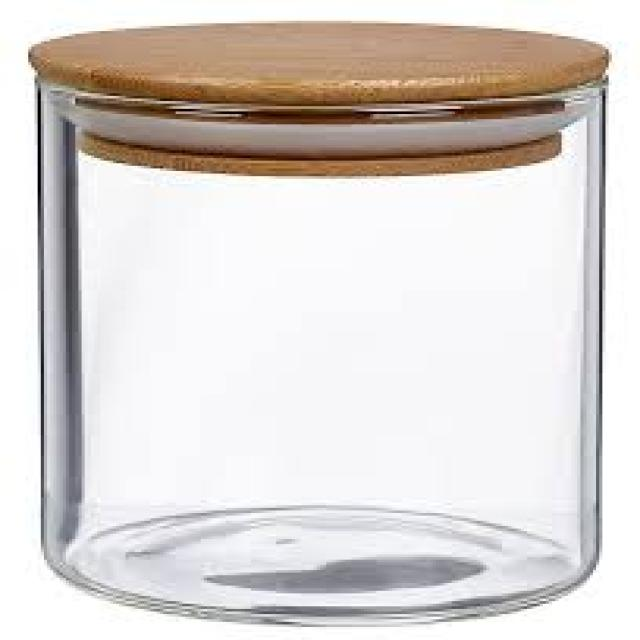glass: (32, 78, 600, 622)
